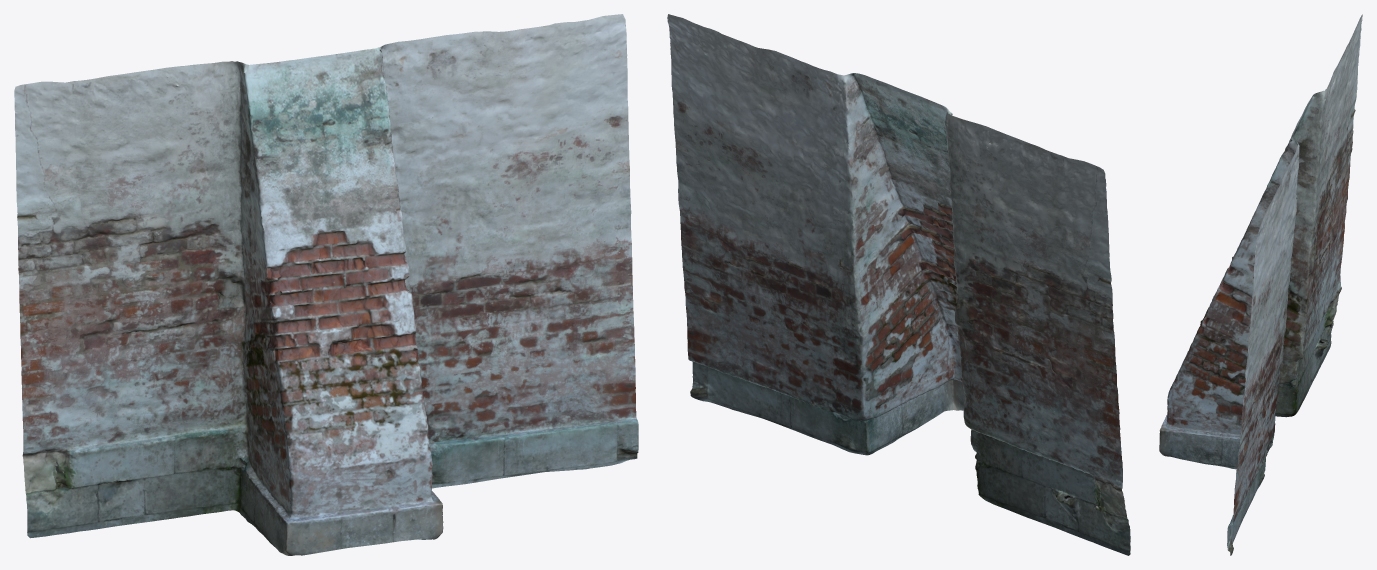
The model's file is monastery_wall.glb.
3 views of the same model, side by side, from view 1: azimuth 30°, elevation 25°; view 2: azimuth 150°, elevation 25°; view 3: azimuth 270°, elevation 25° (orthographic). The views are drawn at different scales.
Visible parts, largest first — view 1: Object_3; view 2: Object_3; view 3: Object_3.
Boxes of the visible parts, bbox=[...] form: Object_3: bbox=[14, 14, 638, 555]; Object_3: bbox=[667, 14, 1130, 555]; Object_3: bbox=[1159, 14, 1362, 555].
Size of the model in its own units: 6.2 by 4.76 by 2.56.
1 material, 1 textured.
